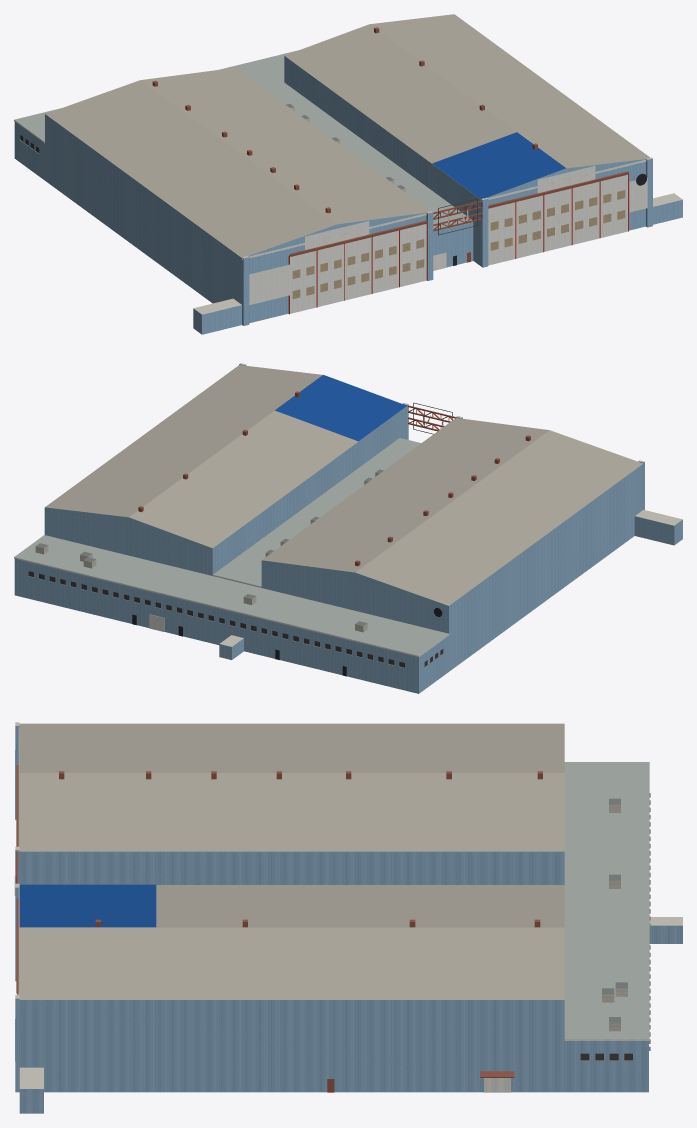
File: cyxd_hangar39_lod1.gltf
The picture shows the model from 3 angles, top to bottom: view 1: azimuth 30°, elevation 25°; view 2: azimuth 150°, elevation 25°; view 3: azimuth 270°, elevation 25°; orthographic projection. The views are drawn at different scales.
Parts seen in each view (by area): view 1: cyxd_hangar39; view 2: cyxd_hangar39; view 3: cyxd_hangar39.
Boxes of the visible parts, left/top/right/bottom form: cyxd_hangar39: left=14, top=14, right=682, bottom=334; cyxd_hangar39: left=14, top=363, right=682, bottom=693; cyxd_hangar39: left=14, top=722, right=682, bottom=1113.
Size of the model in its own units: 113 by 18.23 by 98.42.
